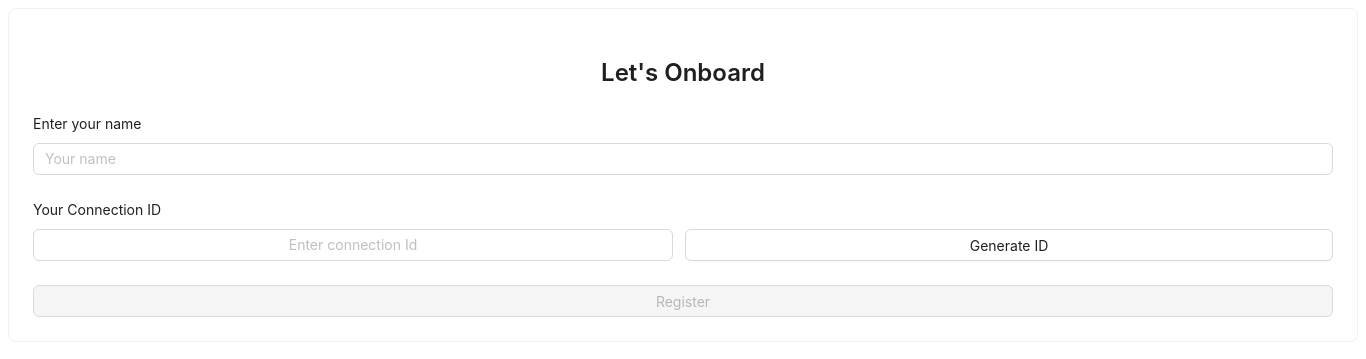
Test: RegisterForm › should show error for taken connection ID
The image size is (1366, 359).
Type "999" into the field with placeholder "Enter connection Id" at (353, 245), box top-left (33, 229), bottom-right (673, 261)
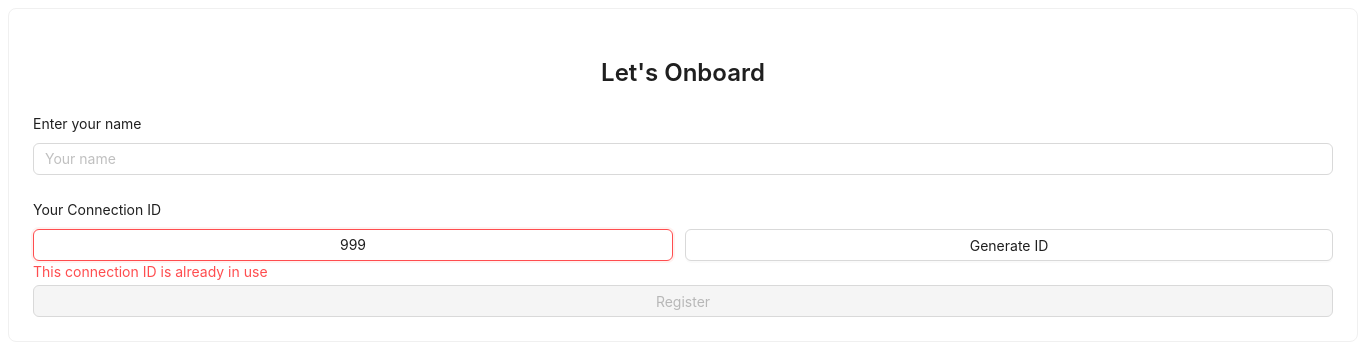
Now the text "This connection ID is already in use" is shown, box top-left (33, 263), bottom-right (268, 280)
